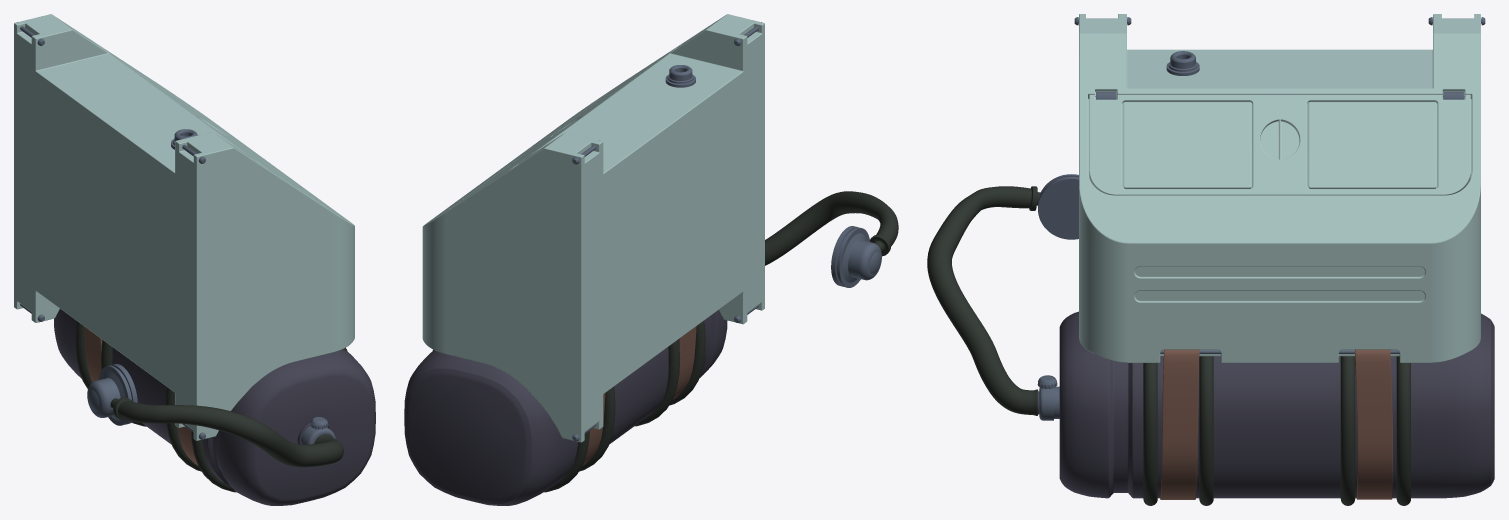
The model's file is backpack.fbx.
3 views of the same model, side by side, from view 1: azimuth 30°, elevation 25°; view 2: azimuth 150°, elevation 25°; view 3: azimuth 270°, elevation 25° (orthographic). The views are drawn at different scales.
Visible parts, largest first — view 1: main_backpack, gas_cylinder, gas_pipe, rubber_tubes, hose_2, strap_1, hose, strap_support_2; view 2: main_backpack, gas_cylinder, gas_pipe, rubber_tubes, hose_2, strap_1, wire_hose; view 3: main_backpack, gas_cylinder, strap_1, rubber_tubes, gas_pipe, hose_2, hose, wire_hose.
Part boxes in pixels (<box>): main_backpack: <box>14,14,354,440</box>; gas_cylinder: <box>54,309,375,505</box>; gas_pipe: <box>110,397,343,467</box>; rubber_tubes: <box>75,321,347,492</box>; hose_2: <box>87,364,137,425</box>; strap_1: <box>84,326,197,465</box>; hose: <box>301,417,335,444</box>; strap_support_2: <box>17,22,205,439</box>; main_backpack: <box>422,14,764,442</box>; gas_cylinder: <box>404,310,727,505</box>; gas_pipe: <box>765,191,898,265</box>; rubber_tubes: <box>432,321,705,492</box>; hose_2: <box>831,226,881,287</box>; strap_1: <box>582,326,696,465</box>; wire_hose: <box>665,65,695,87</box>; main_backpack: <box>1079,14,1480,362</box>; gas_cylinder: <box>1059,311,1494,498</box>; strap_1: <box>1160,349,1392,499</box>; rubber_tubes: <box>1143,356,1410,505</box>; gas_pipe: <box>927,186,1040,415</box>; hose_2: <box>1038,174,1078,239</box>; hose: <box>1037,375,1059,420</box>; wire_hose: <box>1166,51,1199,75</box>.
Size of the model in its own units: 170 by 209 by 256.
